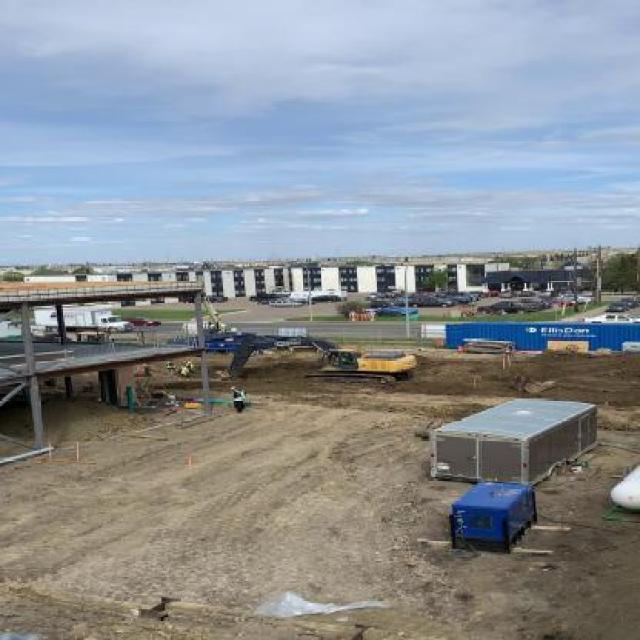excavator: (220, 332, 418, 388)
